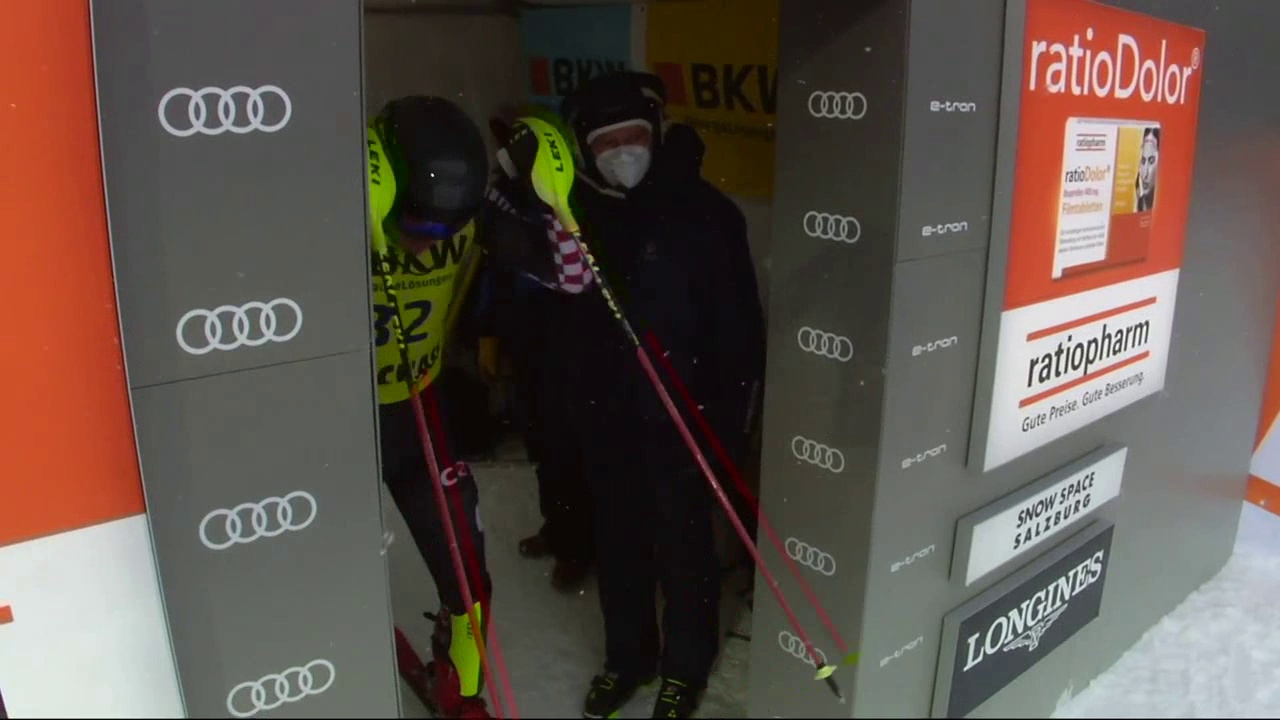audi: (162, 83, 291, 145), (179, 299, 303, 361), (197, 495, 317, 555), (220, 661, 339, 719), (806, 89, 871, 129), (789, 436, 848, 480), (782, 538, 841, 580), (797, 327, 857, 368), (801, 212, 865, 250), (775, 630, 828, 673)
etron: (877, 632, 928, 670), (898, 439, 950, 472), (890, 542, 938, 575), (910, 331, 962, 359), (919, 217, 974, 241), (930, 97, 977, 115)
longines: (967, 549, 1105, 677)
ratiopharm: (1013, 291, 1158, 427)
